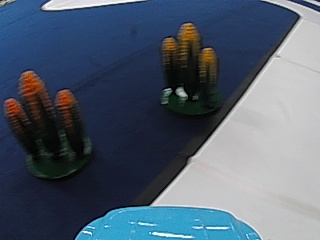corn: (9, 72, 87, 178), (157, 20, 221, 120)
